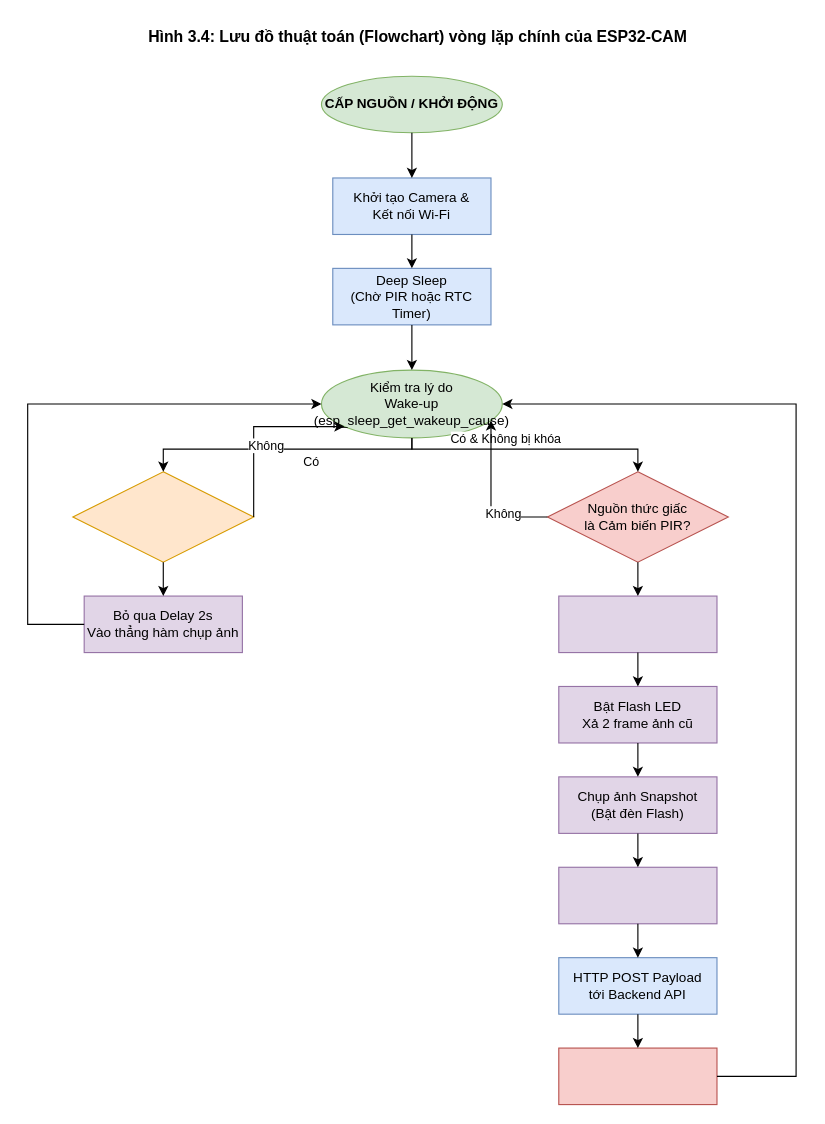
Some shapes in this 825 by 1124 pixel diagram are drawn without their labels. Here are the shapes that lost their labels. From the top down, the box of each, then its label:
(72, 471, 254, 562): Nguồn thức giấc là RTC Timer?
(558, 595, 717, 653): Bật cờ Motion, Delay 2s (Chờ người cất/lấy đồ)
(558, 866, 717, 924): Tắt Flash LED Mã hóa Base64
(558, 1047, 717, 1105): Đặt hẹn giờ RTC (1 tiếng) Và quay lại Deep Sleep
